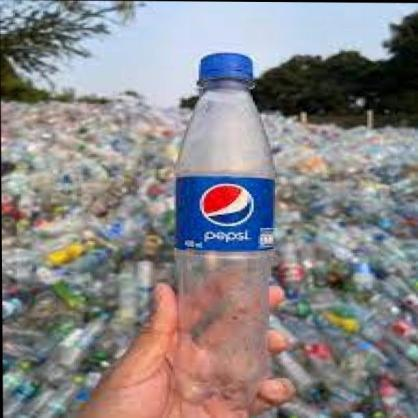bottle: (172, 51, 273, 401)
cap: (197, 54, 253, 86)
label: (175, 174, 270, 252)
